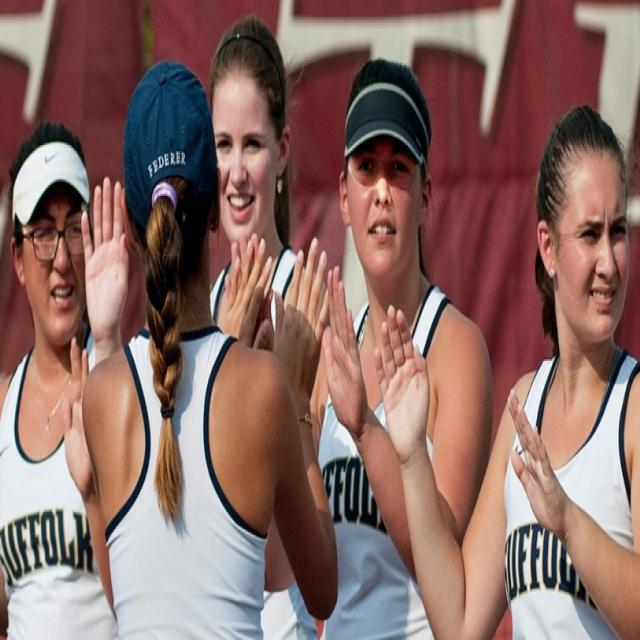body: (220, 46, 498, 638), (80, 14, 330, 640), (78, 54, 338, 638), (370, 88, 639, 638), (0, 123, 119, 640)
